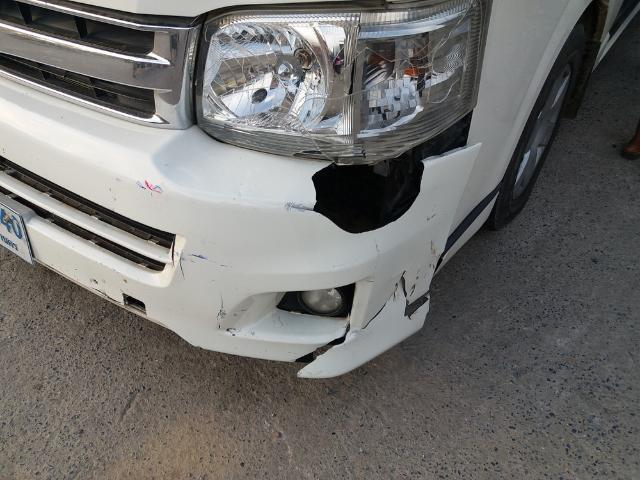crack: (285, 143, 427, 235), (362, 270, 430, 332), (291, 320, 357, 376), (170, 234, 177, 270)
dislocated part: (2, 70, 481, 375)
lamp broken: (197, 0, 490, 162)
